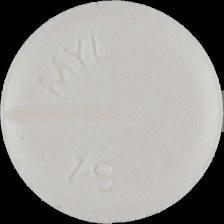51079-301: (0, 0, 224, 224)
